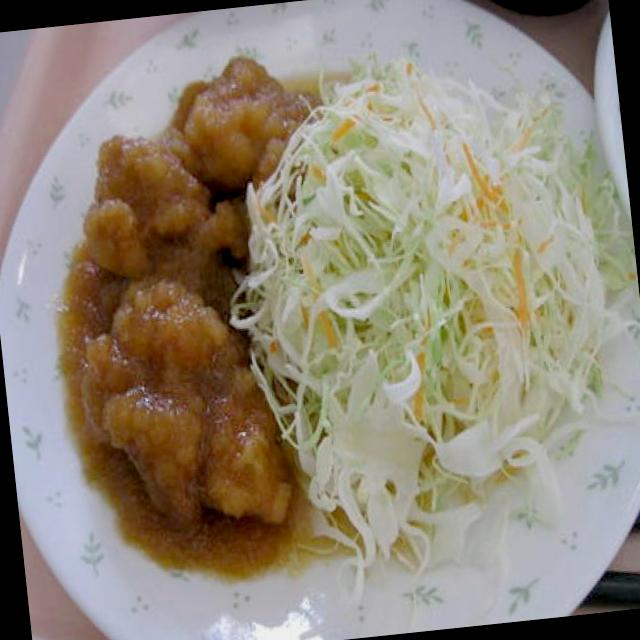Green Salad: (246, 63, 625, 485)
